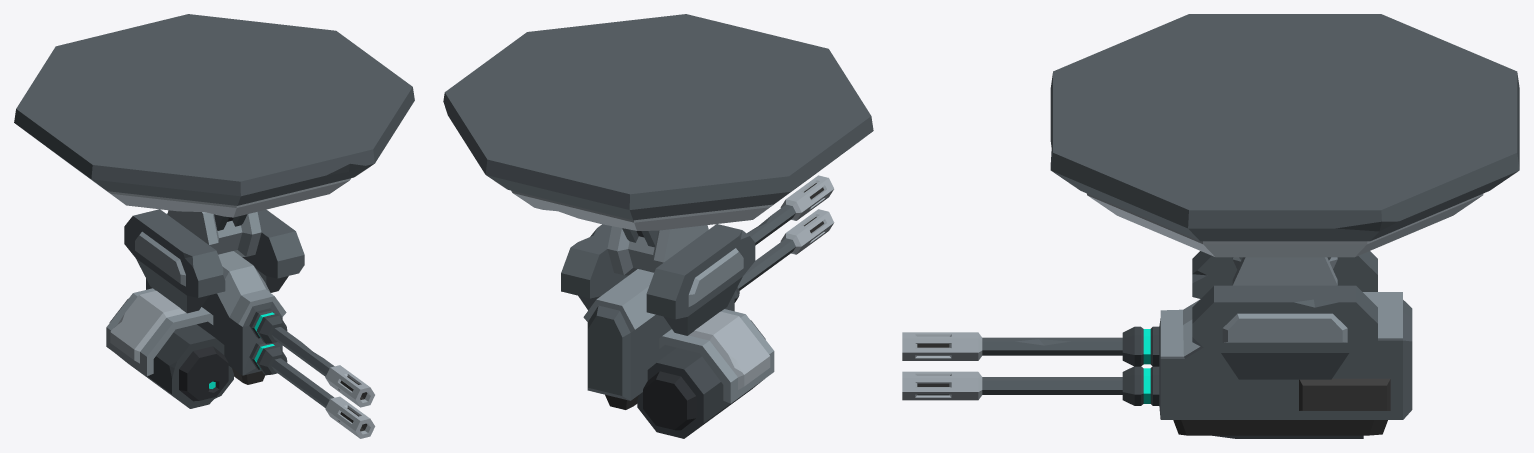
The model's file is SM_Prop_Turret_Small_Ceiling_01.fbx.
3 views of the same model, side by side, from view 1: azimuth 30°, elevation 25°; view 2: azimuth 150°, elevation 25°; view 3: azimuth 270°, elevation 25° (orthographic). The views are drawn at different scales.
Visible parts, largest first — view 1: SM_Prop_Turret_Small_Ceiling_01, SM_Prop_Turret_Small_Gun_Ceiling_01, SM_Prop_Turret_Small_Pivot_Ceiling_01; view 2: SM_Prop_Turret_Small_Ceiling_01, SM_Prop_Turret_Small_Gun_Ceiling_01, SM_Prop_Turret_Small_Pivot_Ceiling_01; view 3: SM_Prop_Turret_Small_Ceiling_01, SM_Prop_Turret_Small_Gun_Ceiling_01, SM_Prop_Turret_Small_Pivot_Ceiling_01.
Boxes of the visible parts, bbox=[...] form: SM_Prop_Turret_Small_Ceiling_01: bbox=[14, 14, 414, 217]; SM_Prop_Turret_Small_Gun_Ceiling_01: bbox=[106, 209, 375, 438]; SM_Prop_Turret_Small_Pivot_Ceiling_01: bbox=[167, 210, 261, 256]; SM_Prop_Turret_Small_Ceiling_01: bbox=[443, 14, 873, 230]; SM_Prop_Turret_Small_Gun_Ceiling_01: bbox=[561, 175, 834, 438]; SM_Prop_Turret_Small_Pivot_Ceiling_01: bbox=[607, 225, 708, 275]; SM_Prop_Turret_Small_Ceiling_01: bbox=[1050, 14, 1519, 257]; SM_Prop_Turret_Small_Gun_Ceiling_01: bbox=[902, 251, 1412, 438]; SM_Prop_Turret_Small_Pivot_Ceiling_01: bbox=[1232, 257, 1337, 285].
Size of the model in its own units: 160 by 130 by 211.
Materials: 1 (1 with a texture image).
